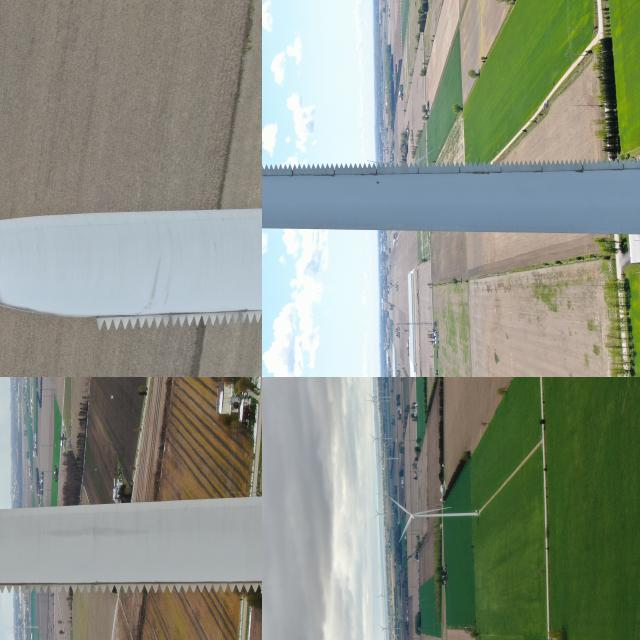damage: (0, 259, 11, 306), (352, 168, 380, 180), (307, 171, 337, 180), (461, 170, 503, 174), (569, 167, 589, 174)
